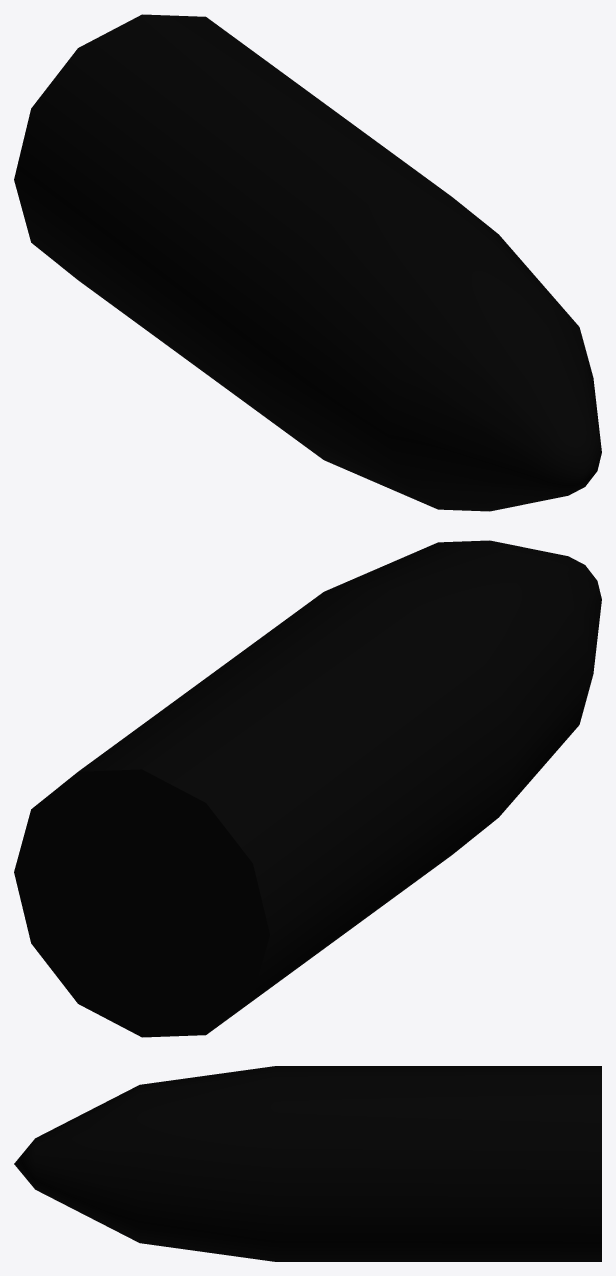
File: zidan.fbx
The picture shows the model from 3 angles, top to bottom: view 1: azimuth 30°, elevation 25°; view 2: azimuth 150°, elevation 25°; view 3: azimuth 270°, elevation 25°; orthographic projection. The views are drawn at different scales.
Parts seen in each view (by area): view 1: M_zidan; view 2: M_zidan; view 3: M_zidan.
Boxes of the visible parts, <box> form: M_zidan: <box>14,14,601,511</box>; M_zidan: <box>14,540,601,1037</box>; M_zidan: <box>14,1066,601,1261</box>.
Size of the model in its own units: 3.33 by 3.33 by 9.95.
